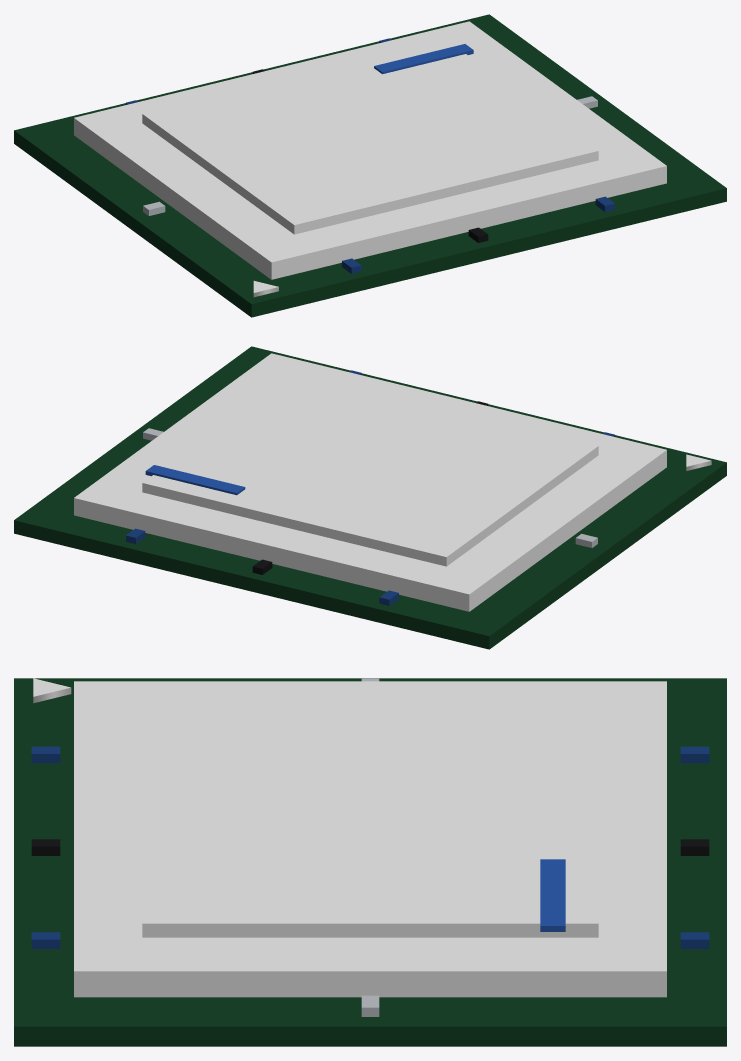
The model's file is hw_cpu_xeon_4c.glb.
3 views of the same model, one above another, from view 1: azimuth 30°, elevation 25°; view 2: azimuth 150°, elevation 25°; view 3: azimuth 270°, elevation 25° (orthographic). The views are drawn at different scales.
Parts seen in each view (by area): view 1: Body; view 2: Body; view 3: Body.
Part boxes in pixels (<box>): Body: <box>14,14,726,317</box>; Body: <box>14,346,726,649</box>; Body: <box>14,678,726,1046</box>.
Size of the model in its own units: 0.052 by 0.00467 by 0.045.
